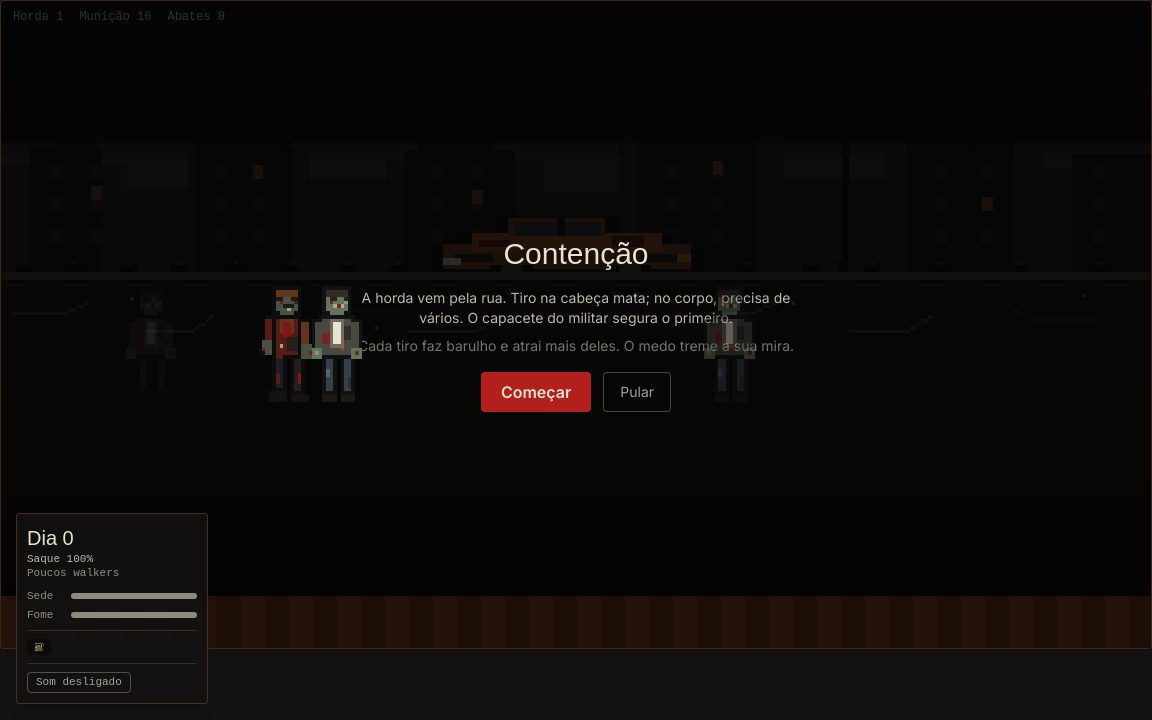
Test: ammo from the backpack › is loaded into the horde run
Click the button "Começar" at [536, 392], box top-left (481, 372), bottom-right (591, 412)
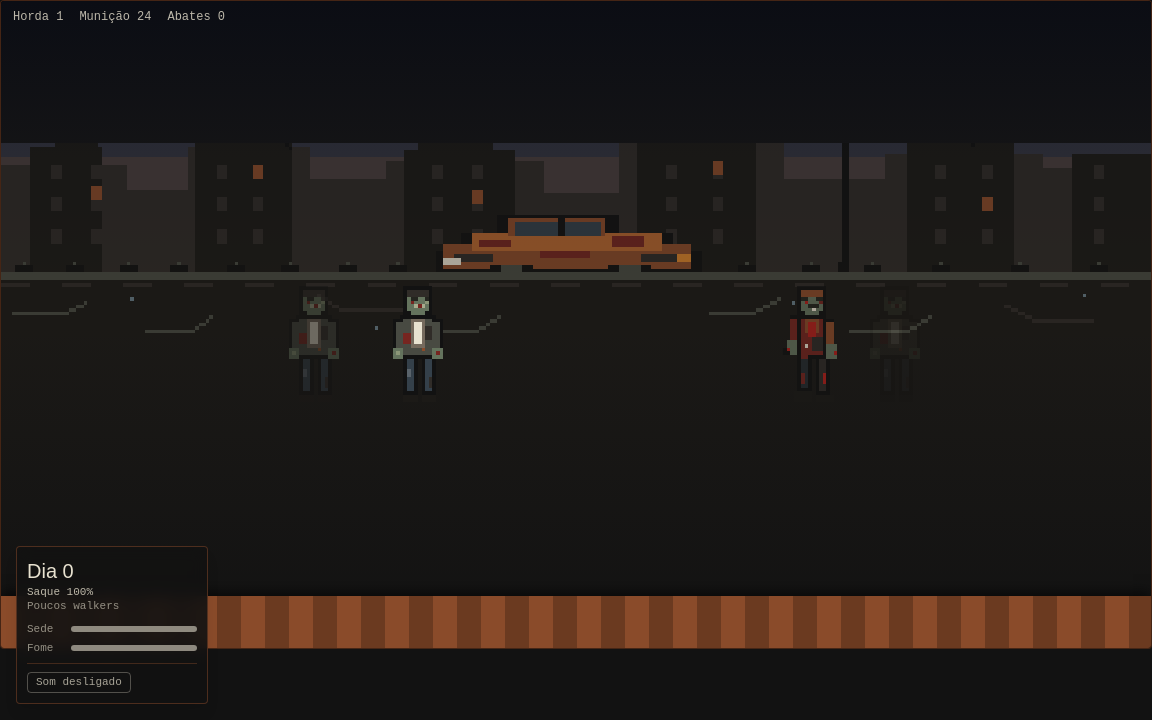
Now the list "inventário" is gone
